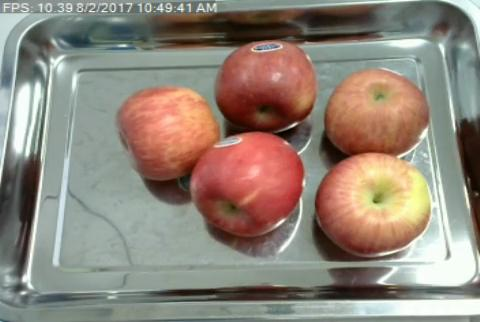apple: (313, 152, 434, 257), (190, 133, 306, 237), (116, 86, 218, 181), (215, 40, 317, 133), (325, 70, 430, 158)
